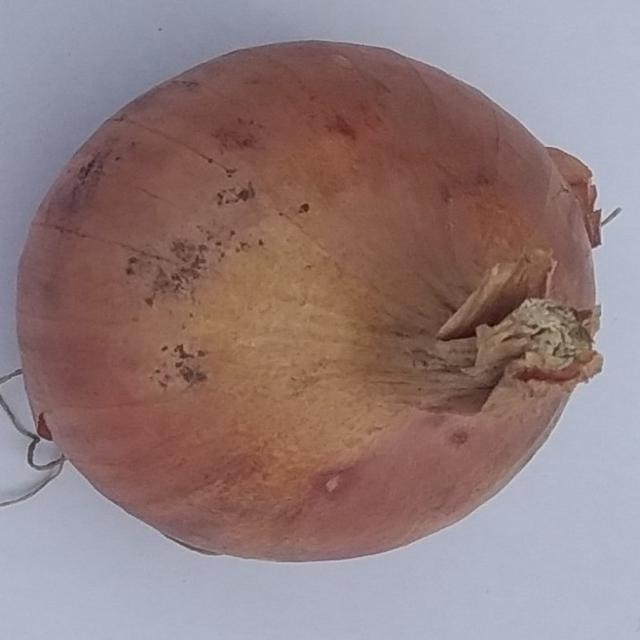onion: (14, 37, 614, 566)
